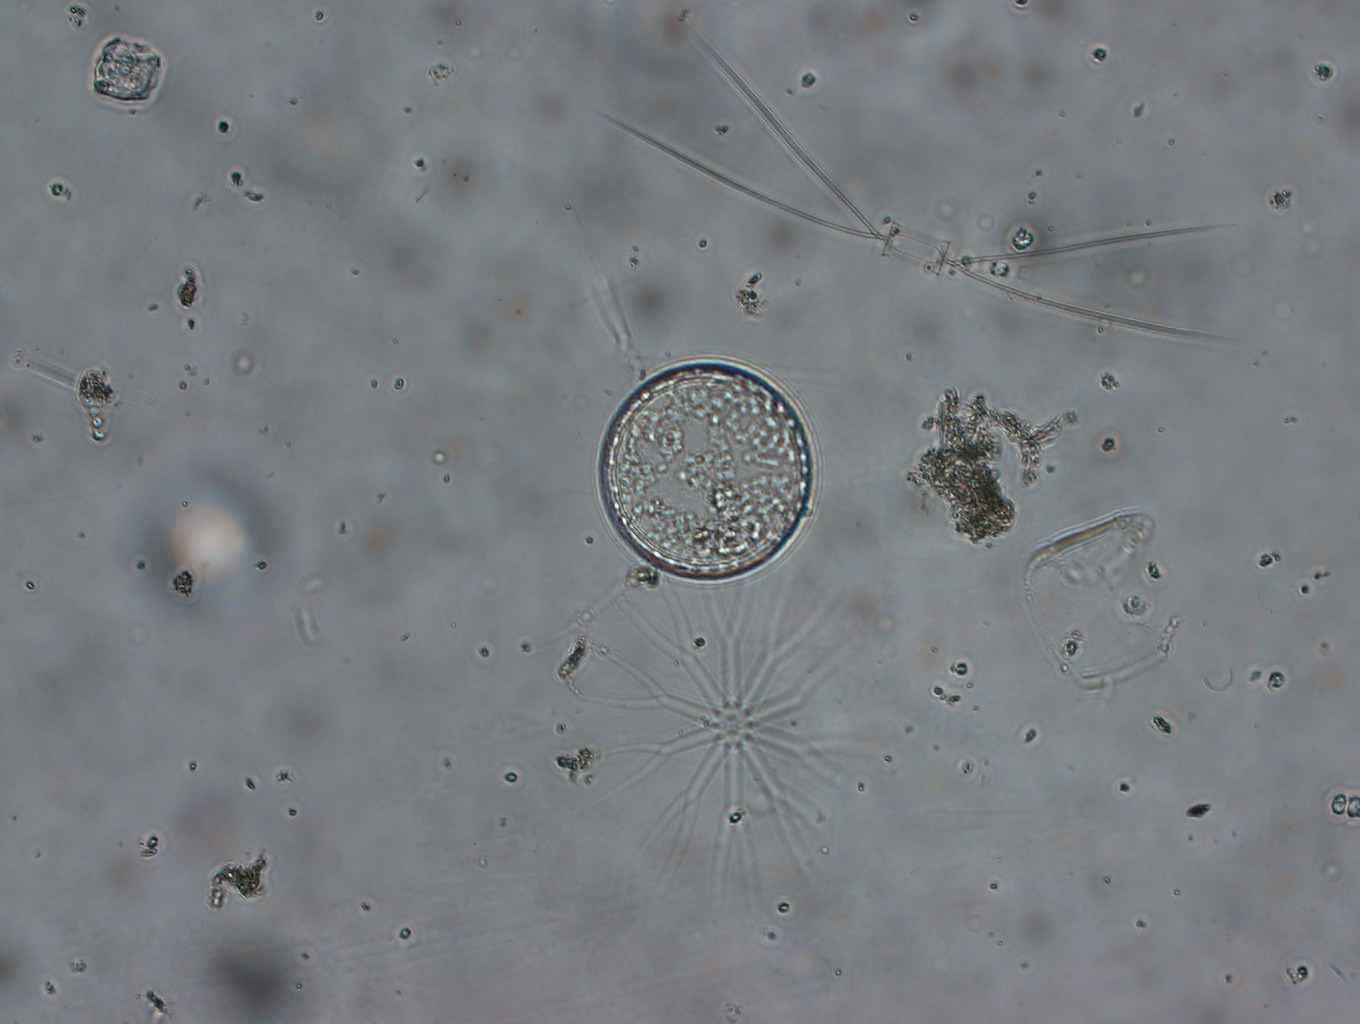bacteriastrum: (548, 537, 898, 920)
chaetoceros: (582, 24, 1257, 360)
coscinodiscus: (595, 352, 826, 586)
